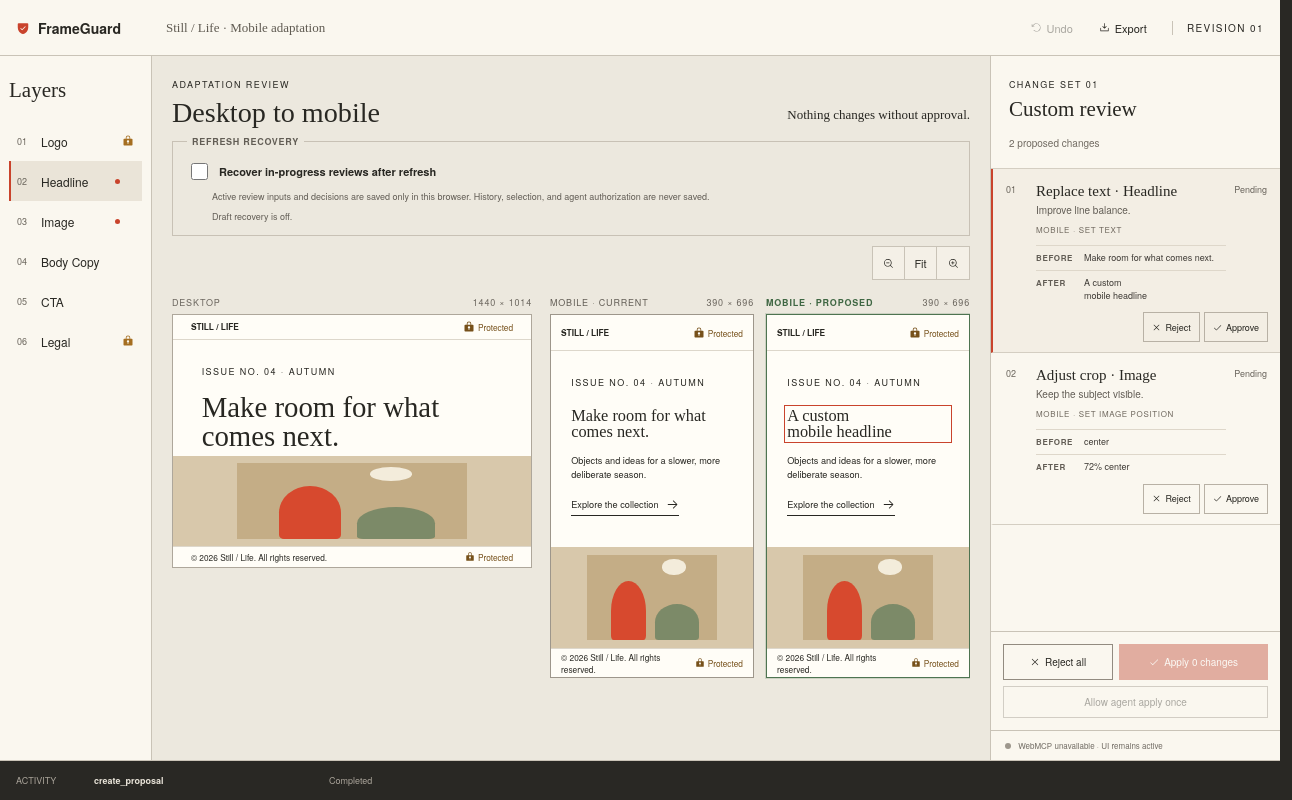
Test: synchronizes change selection back to Layers and the preview
What coordinates should you click on to do the following:
click the button with aria-label "Inspect Image change"
I would click on:
 (1136, 419)
Its box is [993,353,1280,484].
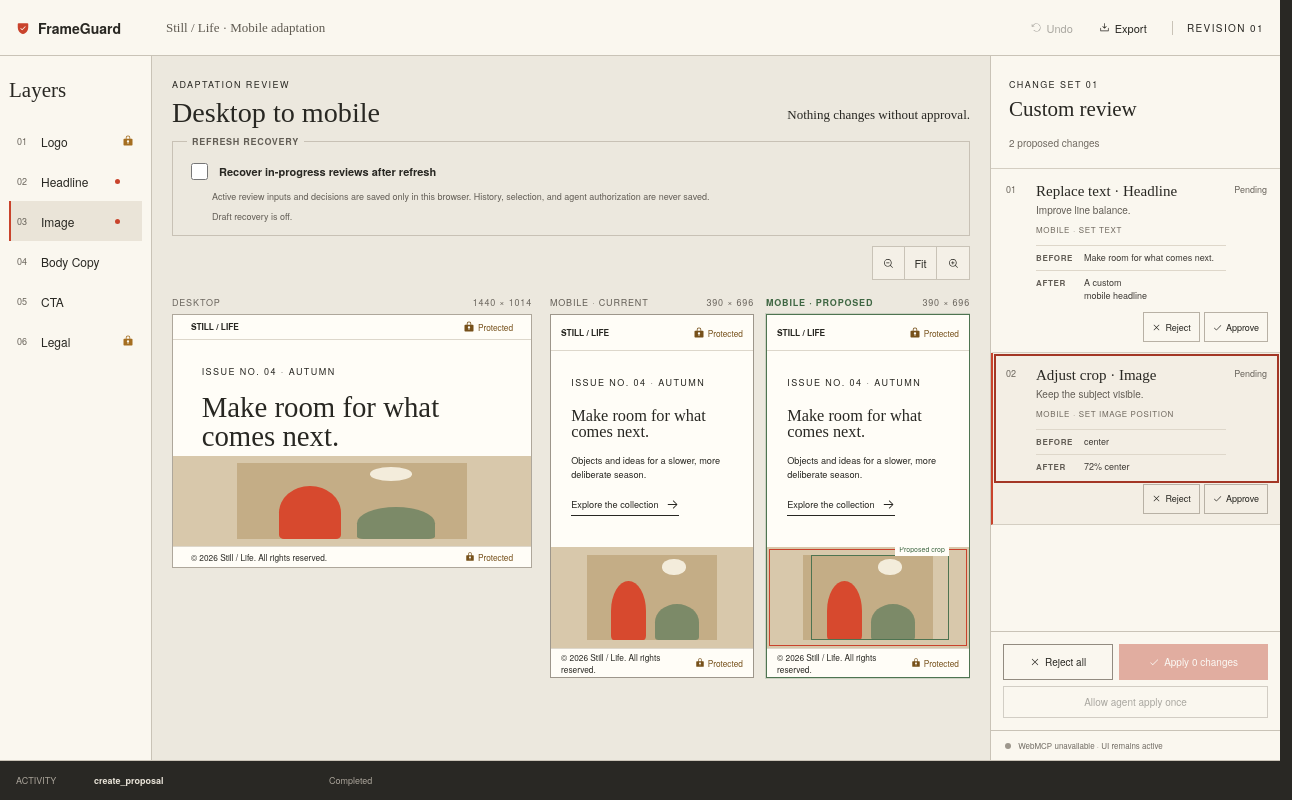
Now the element named "Selected Image layer" is shown, box [767,547,969,648]
Now the element named "proposed crop boundary" is shown, box [811,555,949,640]
